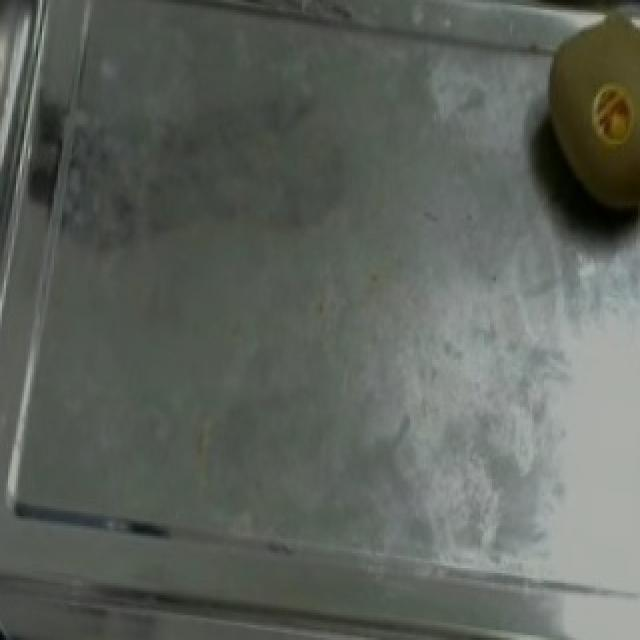Fruit: (520, 2, 640, 221)
